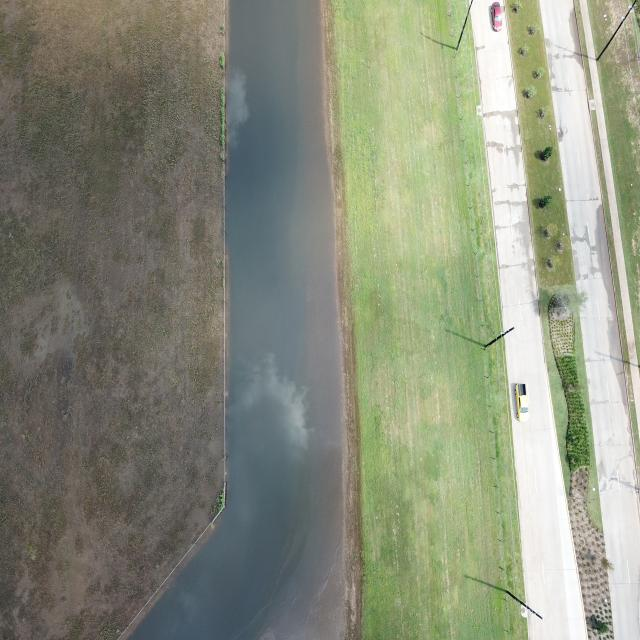fire: (131, 0, 346, 640)
